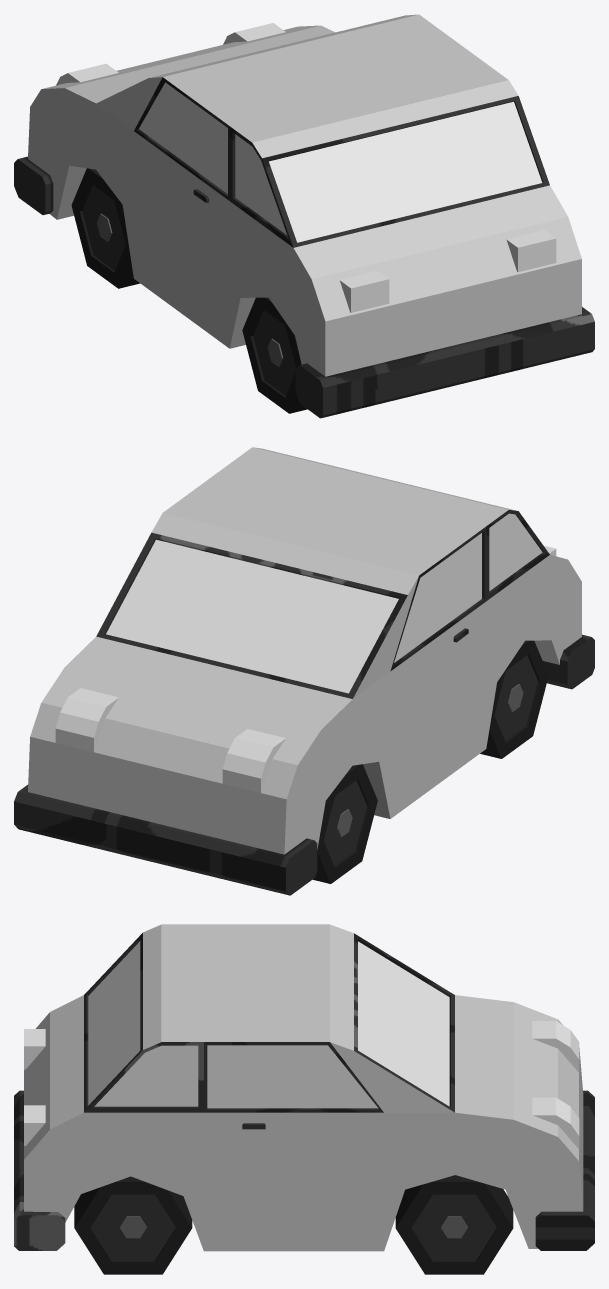
File: model-scenario-ground-level0-cutscene-cubemanCar.fbx
The picture shows the model from 3 angles, top to bottom: view 1: azimuth 30°, elevation 25°; view 2: azimuth 150°, elevation 25°; view 3: azimuth 270°, elevation 25°; orthographic projection. The views are drawn at different scales.
Parts seen in each view (by area): view 1: car0_carcass_mesh, car0_wheel_mesh_front_1, car0_wheel_mesh_back_1; view 2: car0_carcass_mesh, car0_wheel_mesh_front_1, car0_wheel_mesh_back_1; view 3: car0_carcass_mesh, car0_wheel_mesh_front_0, car0_wheel_mesh_back_0.
Boxes of the visible parts, left/top/right/bottom form: car0_carcass_mesh: left=14, top=14, right=594, bottom=418; car0_wheel_mesh_front_1: left=71, top=168, right=139, bottom=288; car0_wheel_mesh_back_1: left=242, top=297, right=307, bottom=413; car0_carcass_mesh: left=14, top=447, right=594, bottom=895; car0_wheel_mesh_front_1: left=313, top=764, right=377, bottom=883; car0_wheel_mesh_back_1: left=480, top=640, right=548, bottom=758; car0_carcass_mesh: left=14, top=924, right=594, bottom=1251; car0_wheel_mesh_front_0: left=395, top=1175, right=513, bottom=1274; car0_wheel_mesh_back_0: left=74, top=1176, right=192, bottom=1274.
Bounding box in the file's own units: 4.17 × 2.12 × 1.86.
